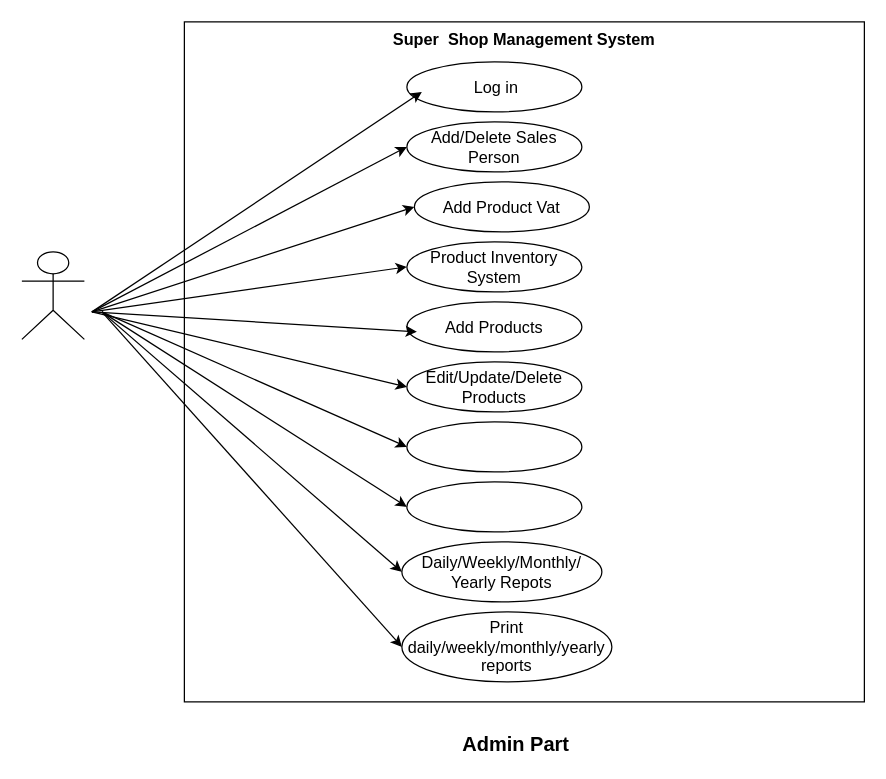
The diagram is 886 pixels wide and 779 high, and some of its shapes have lost their labels. Each missing label, with the box of its shape:
Admin: (21, 251, 84, 339)
Generate barcode: (406, 421, 582, 472)
Print barcode lavels: (406, 481, 582, 532)
